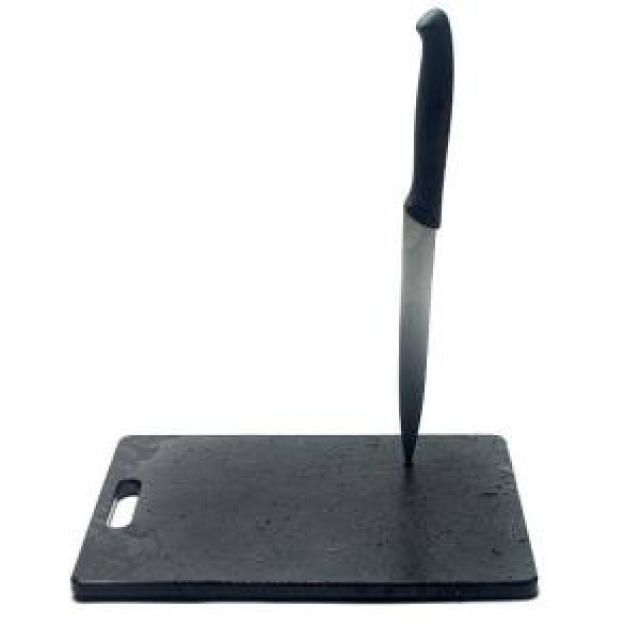knife: (399, 4, 455, 486)
